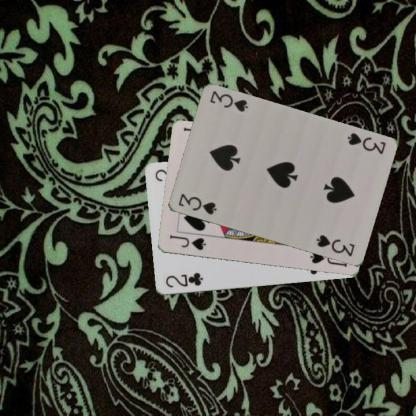2c: (163, 271, 204, 290)
3s: (344, 130, 387, 156), (176, 191, 218, 216)
Js: (167, 232, 207, 252)
